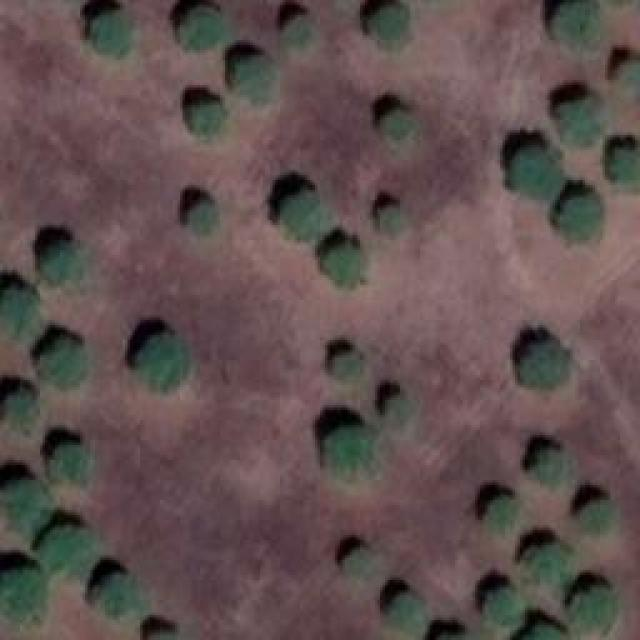Tree: (135, 325, 189, 384), (0, 565, 47, 632), (510, 145, 563, 203), (515, 340, 573, 391), (550, 0, 605, 51), (323, 425, 376, 477), (555, 98, 605, 152), (44, 528, 96, 579), (228, 55, 282, 104), (275, 185, 325, 237), (2, 478, 48, 533), (570, 588, 619, 639), (0, 285, 44, 341), (40, 340, 88, 391), (88, 10, 138, 58), (88, 573, 132, 627), (525, 542, 575, 587), (558, 192, 606, 238), (363, 3, 412, 47), (178, 5, 227, 49), (530, 445, 575, 492), (40, 243, 88, 286), (48, 441, 95, 484), (323, 238, 366, 282), (575, 500, 622, 539), (3, 385, 40, 434), (385, 590, 426, 633), (483, 585, 525, 625), (605, 143, 640, 190), (190, 98, 228, 136), (338, 543, 375, 579), (185, 200, 220, 238), (383, 103, 418, 141), (285, 15, 319, 51), (610, 55, 640, 95), (485, 492, 519, 526), (373, 200, 407, 233), (330, 350, 361, 380), (518, 622, 568, 640), (380, 395, 408, 427), (421, 625, 478, 639), (148, 625, 181, 640)
